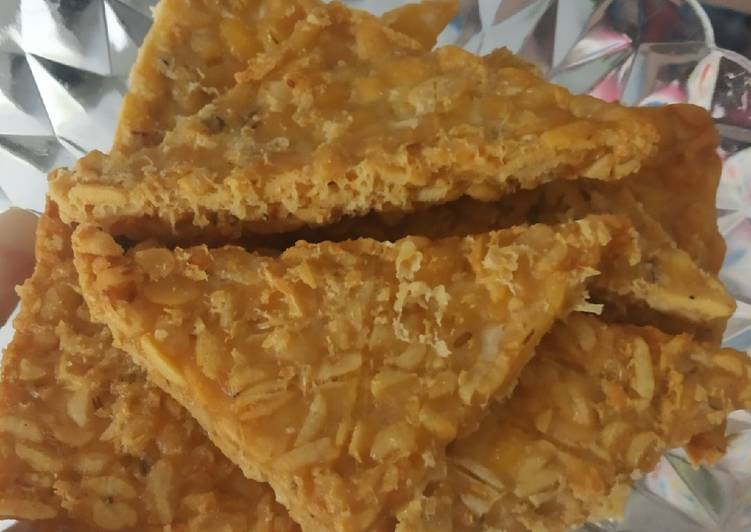Tempe: (114, 212, 627, 482), (72, 3, 668, 220)
